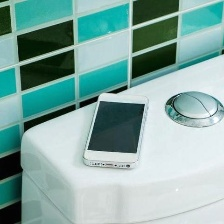phone: (78, 85, 153, 175)
